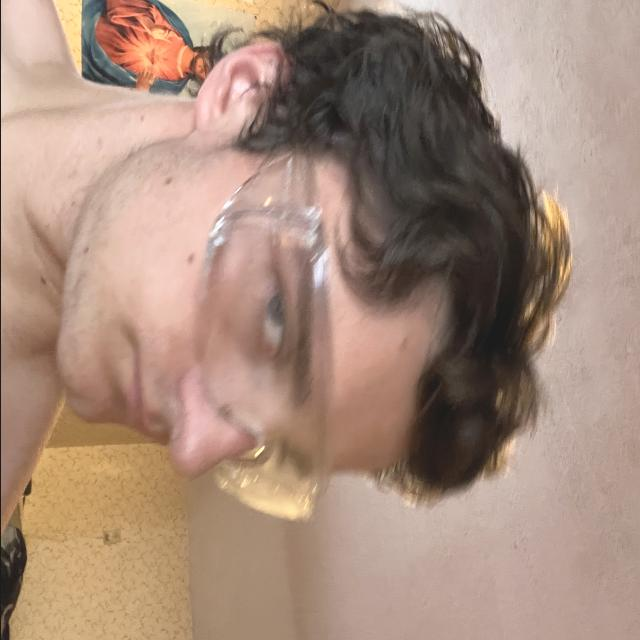Safety Glasses: (187, 116, 339, 542)
